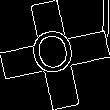O_S: (28, 25, 82, 85)
